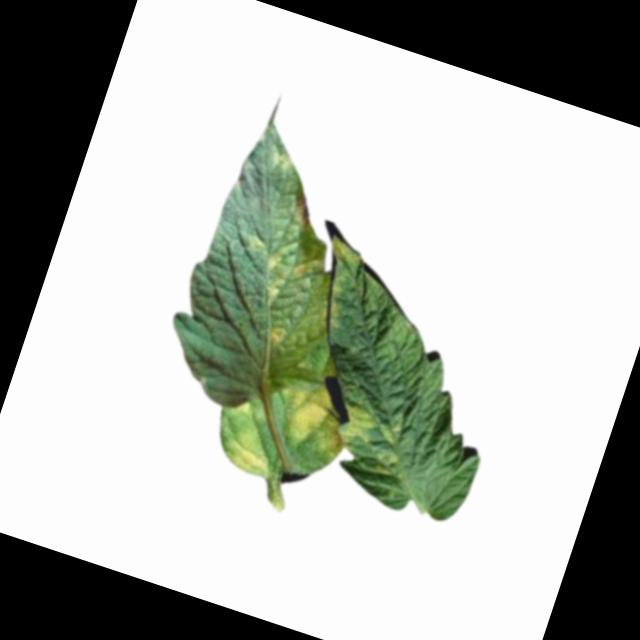Leaf_Mold: (270, 370, 358, 451), (333, 401, 410, 464), (250, 244, 314, 315), (224, 425, 282, 480), (286, 184, 324, 234), (266, 322, 291, 349)
